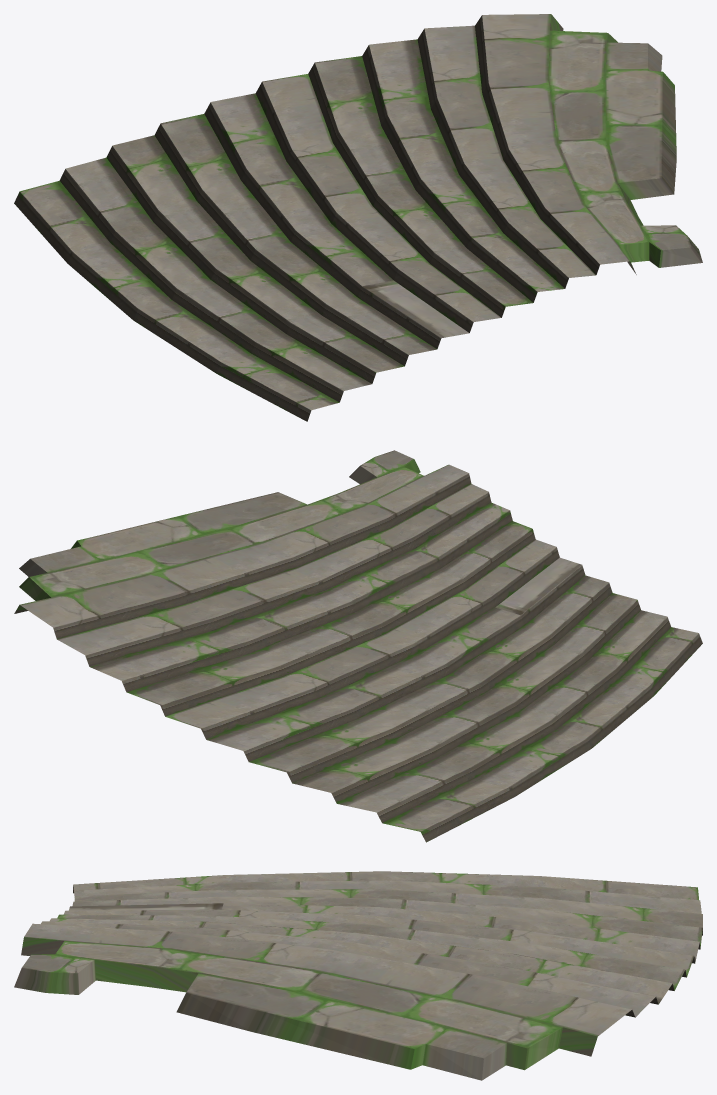
File: zc_zhanchang001_louti001_55_15_2383out.fbx
3 views of the same model, one above another, from view 1: azimuth 30°, elevation 25°; view 2: azimuth 150°, elevation 25°; view 3: azimuth 270°, elevation 25° (orthographic). The views are drawn at different scales.
Visible parts, largest first — view 1: zc_zhanchang001_louti001; view 2: zc_zhanchang001_louti001; view 3: zc_zhanchang001_louti001.
Boxes of the visible parts, box(x1,y1,x2,y2) form: zc_zhanchang001_louti001: box(14, 14, 702, 421); zc_zhanchang001_louti001: box(14, 450, 702, 842); zc_zhanchang001_louti001: box(14, 871, 702, 1080).
Size of the model in its own units: 8.21 by 1.42 by 8.09.
